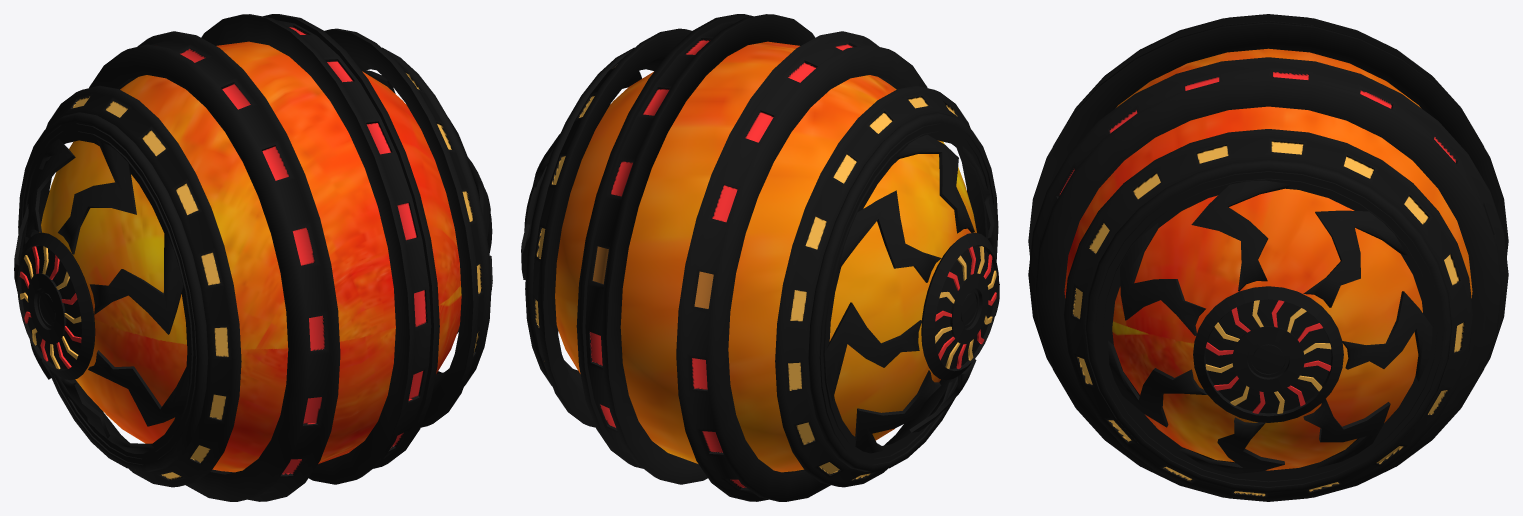
File: ball14.fbx
3 renders of one model, left to right at view 1: azimuth 30°, elevation 25°; view 2: azimuth 150°, elevation 25°; view 3: azimuth 270°, elevation 25°, orthographic.
Parts seen in each view (by area): view 1: Sphere, Sphere.001, Sphere.002; view 2: Sphere, Sphere.001, Sphere.002; view 3: Sphere.001, Sphere.002, Sphere.
Part boxes in pixels (x1=…): Sphere: x1=39, y1=41, x2=461, y2=472; Sphere.001: x1=14, y1=28, x2=492, y2=487; Sphere.002: x1=89, y1=14, x2=439, y2=501; Sphere: x1=555, y1=41, x2=976, y2=472; Sphere.001: x1=521, y1=28, x2=999, y2=487; Sphere.002: x1=576, y1=14, x2=927, y2=501; Sphere.001: x1=1063, y1=14, x2=1473, y2=501; Sphere.002: x1=1028, y1=14, x2=1508, y2=497; Sphere: x1=1064, y1=48, x2=1472, y2=470.
Bounding box in the file's own units: 224 × 222 × 222.
1 material, 1 textured.
